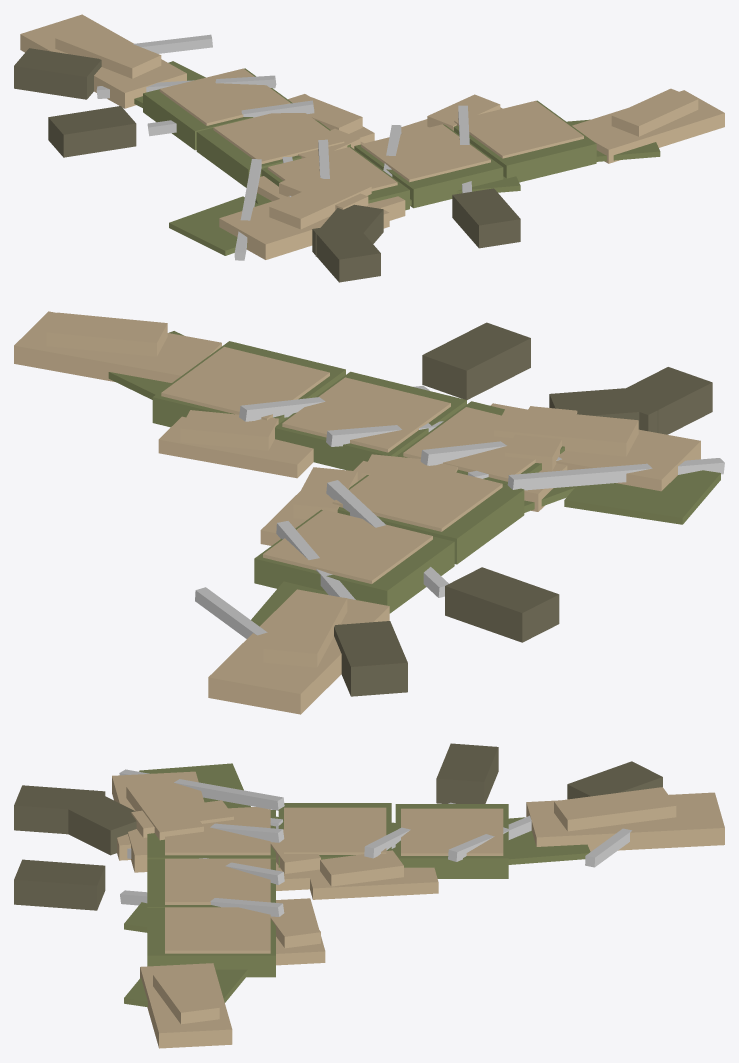
The model's file is SM_HescoEsquina_v3_RemateSacos_e3_Brecha_LOD1.fbx.
The picture shows the model from 3 angles, top to bottom: view 1: azimuth 30°, elevation 25°; view 2: azimuth 150°, elevation 25°; view 3: azimuth 270°, elevation 25°; orthographic projection. The views are drawn at different scales.
Visible parts, largest first — view 1: SM_hesco_piezas_v15_LOD1; view 2: SM_hesco_piezas_v15_LOD1; view 3: SM_hesco_piezas_v15_LOD1.
Part boxes in pixels (bbox=[...]): SM_hesco_piezas_v15_LOD1: bbox=[14, 14, 724, 282]; SM_hesco_piezas_v15_LOD1: bbox=[14, 311, 724, 714]; SM_hesco_piezas_v15_LOD1: bbox=[14, 743, 724, 1048].
Bounding box in the file's own units: 6.29 × 0.351 × 6.74.
